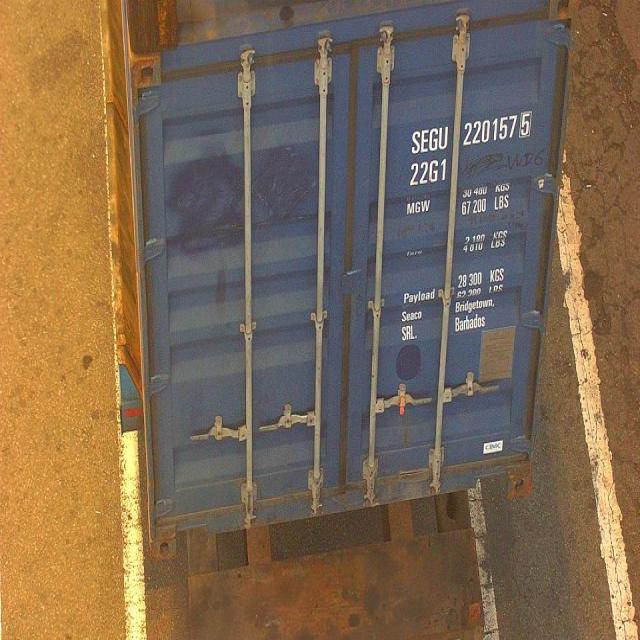ISO: (408, 158, 450, 186)
container_number: (411, 108, 536, 155)
